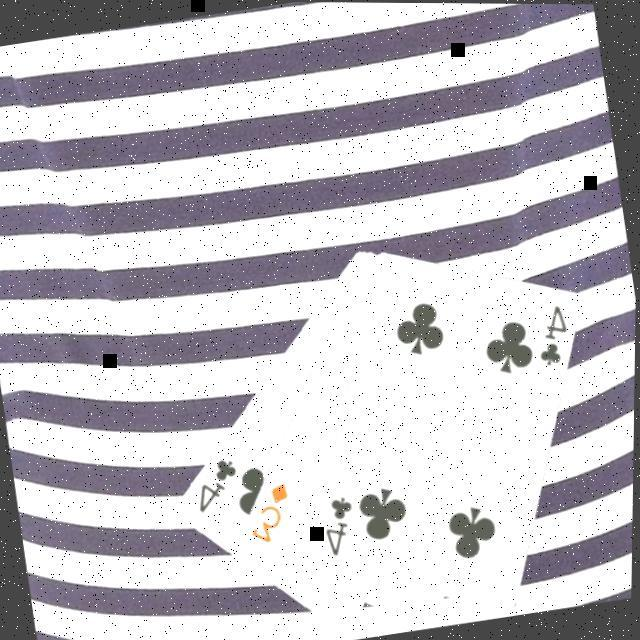3D: (242, 480, 300, 550)
4C: (188, 454, 247, 518), (528, 302, 576, 372), (317, 493, 364, 562)
